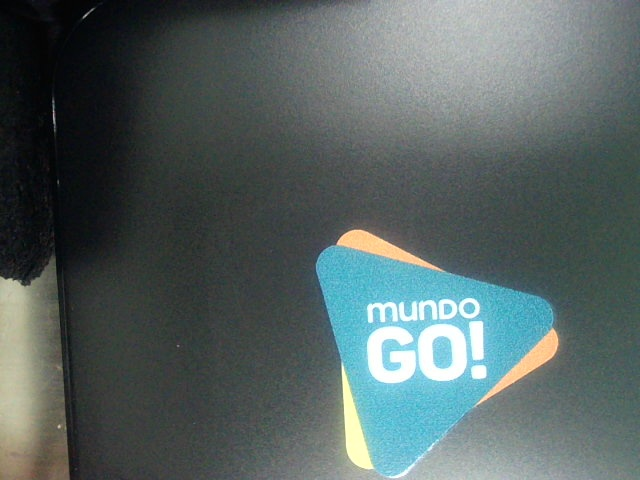AP_IPGMundoGO: (264, 220, 571, 479)
